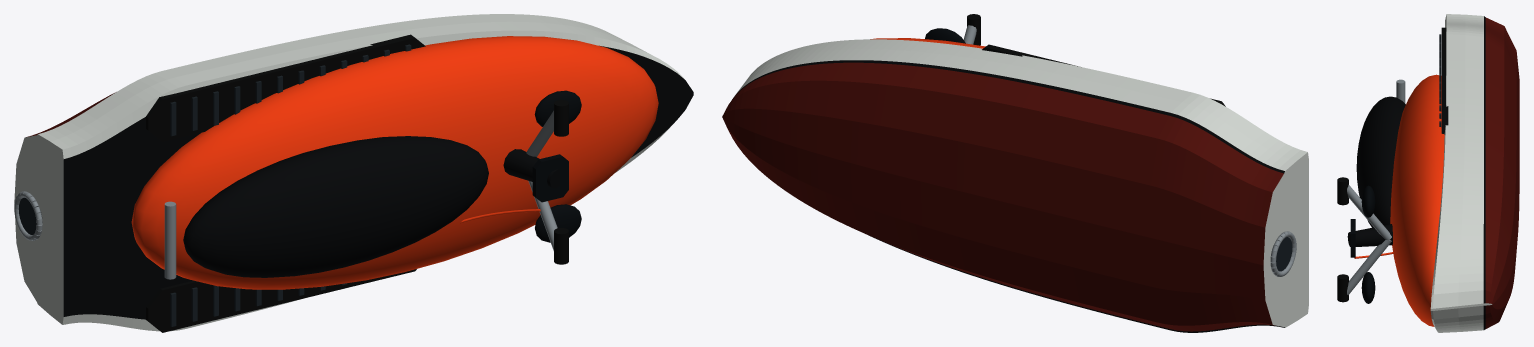
The model's file is jetski.obj.
3 views of the same model, side by side, from view 1: azimuth 30°, elevation 25°; view 2: azimuth 150°, elevation 25°; view 3: azimuth 270°, elevation 25° (orthographic). The views are drawn at different scales.
Bounding box in the file's own units: 3.23 × 1.2 × 1.07.
